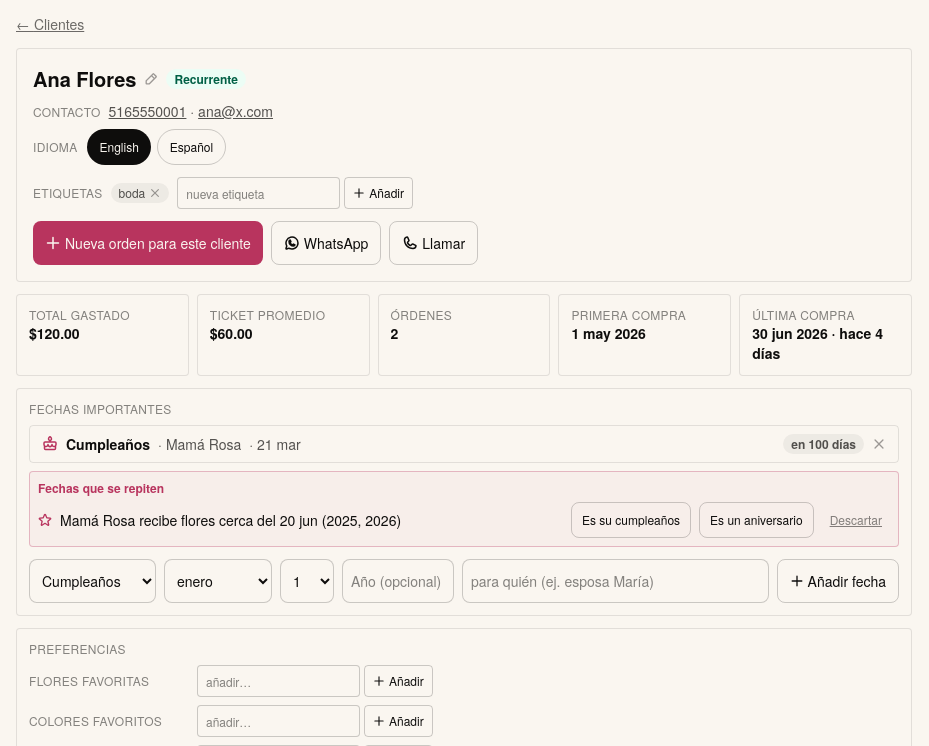
Test: CustomerProfile › renaming a customer › saves a corrected name and shows it
The image size is (929, 746).
Click the button named "Editar nombre" at x=152, y=79, box 144,72 -> 158,86
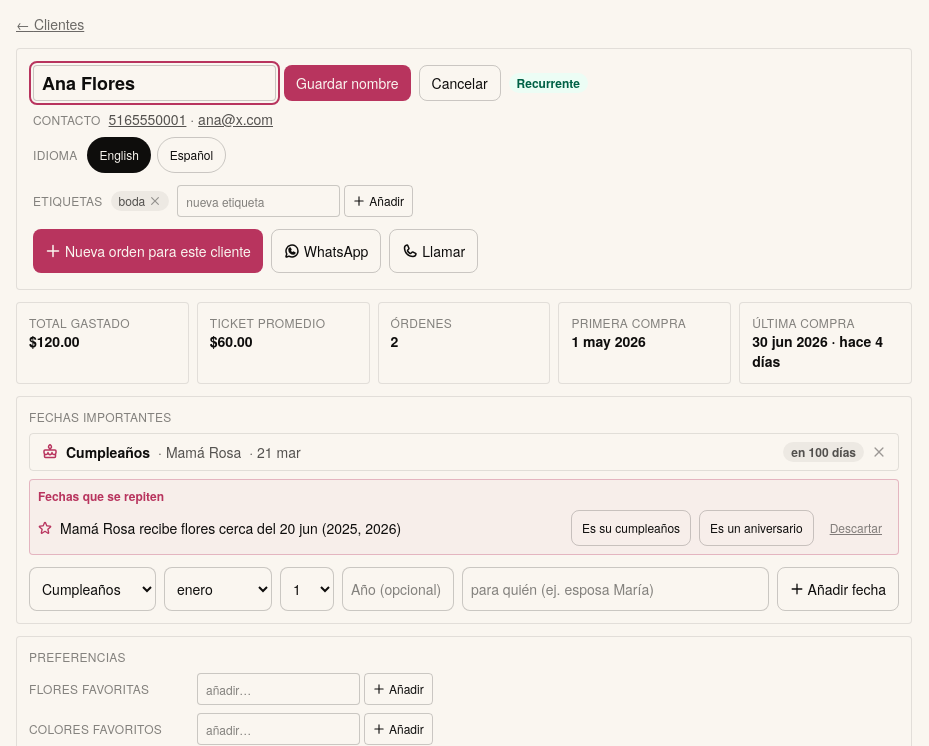
Expected: the field named "Nombre" holds "Ana Flores"
Replace the text in the field named "Nombre" with "Robyn Vega" at x=154, y=83, box 33,65 -> 276,101
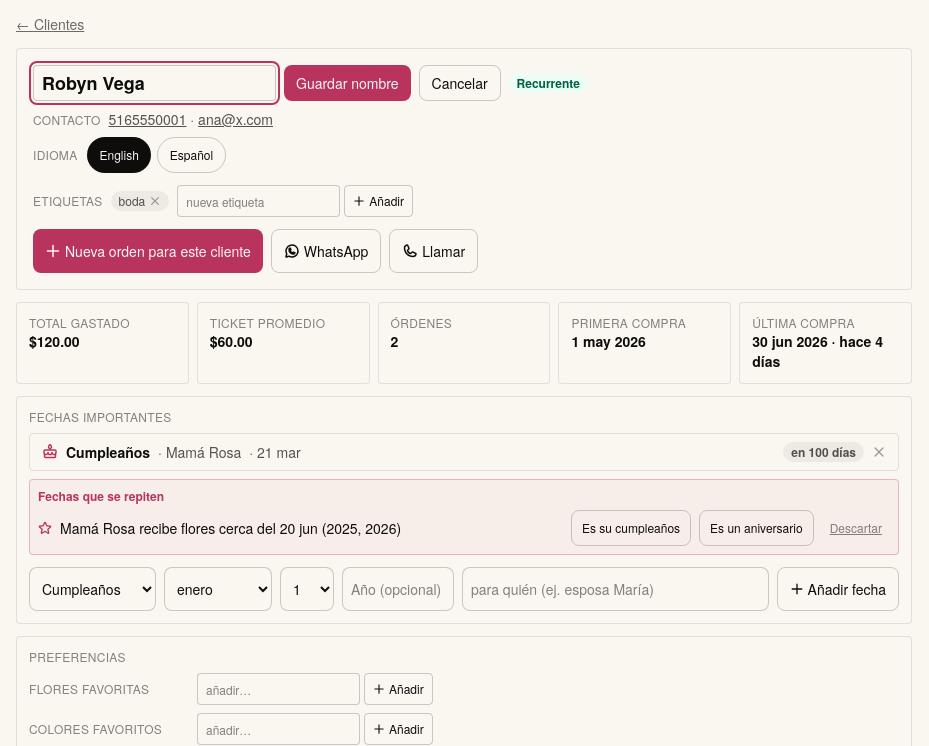
Click the button "Guardar nombre" at x=347, y=83, box 284,65 -> 411,101
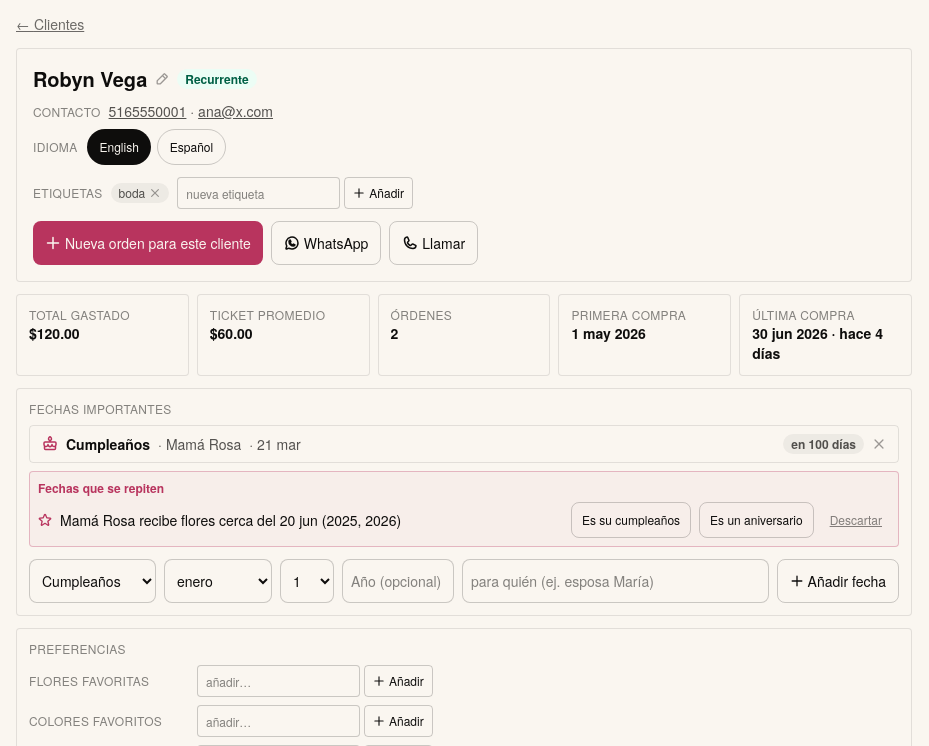
Expected: the heading "Robyn Vega" is shown, 33,65 -> 147,93
